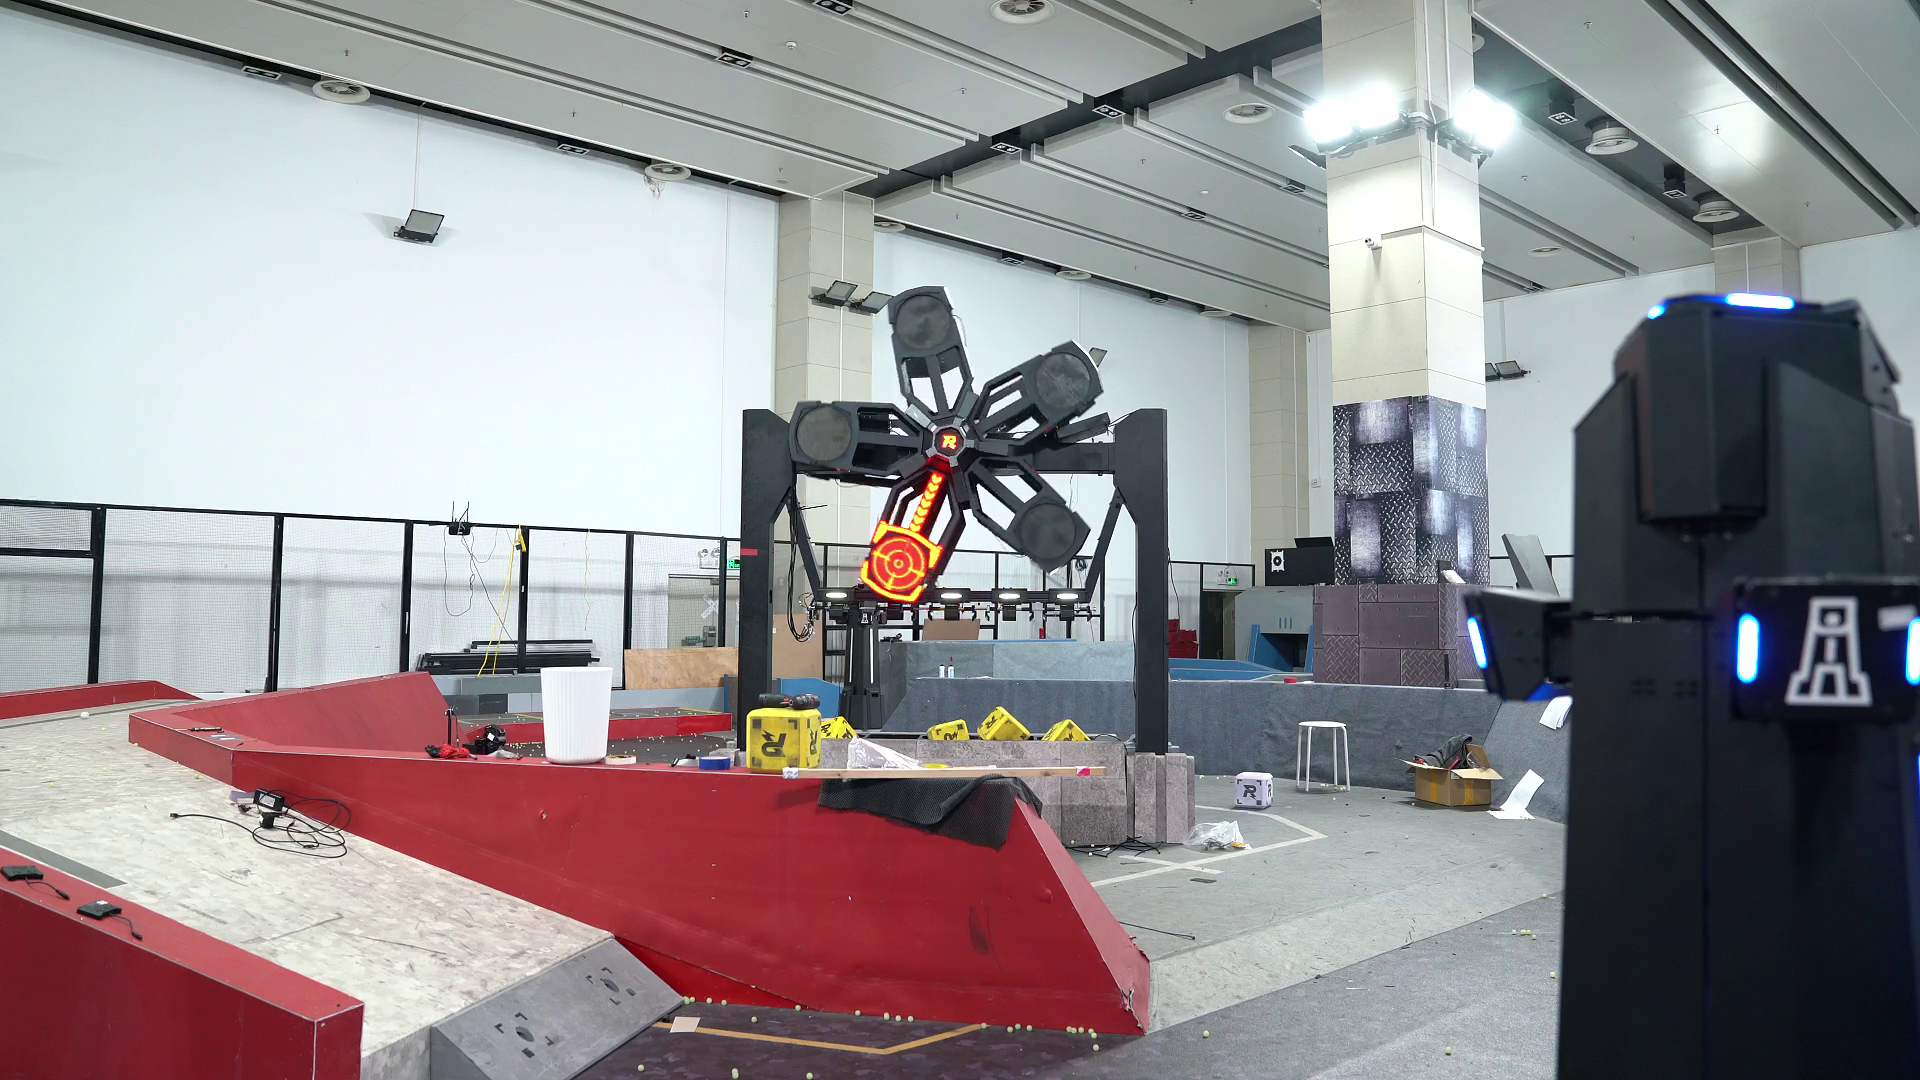R: (942, 434, 957, 450)
aim: (858, 520, 943, 603)
